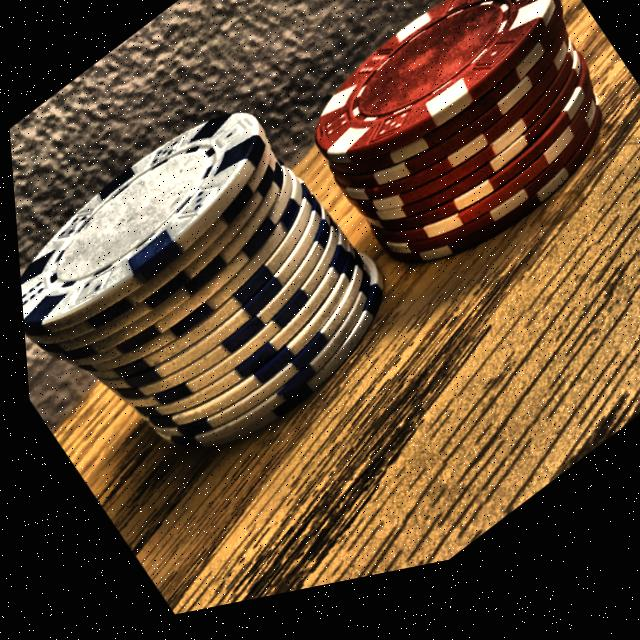Chip: (5, 15, 471, 565), (259, 0, 640, 346)
